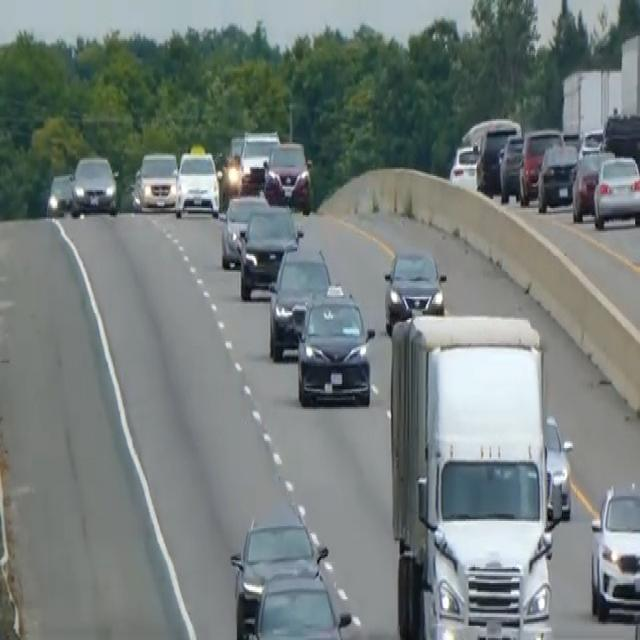car: (229, 514, 328, 638), (295, 281, 375, 407), (244, 566, 353, 638), (267, 242, 332, 361), (588, 480, 639, 622), (238, 202, 302, 300), (382, 246, 446, 334), (219, 190, 269, 268), (517, 126, 563, 204), (592, 153, 639, 229), (570, 146, 615, 220), (174, 146, 220, 218), (543, 412, 573, 521), (264, 139, 311, 206), (536, 138, 578, 212), (475, 122, 518, 194), (70, 153, 118, 217), (134, 149, 178, 210), (238, 128, 279, 190), (602, 107, 639, 160), (498, 131, 525, 201), (220, 133, 244, 201), (448, 140, 479, 190), (46, 169, 74, 217)
lorry: (386, 310, 572, 638)
